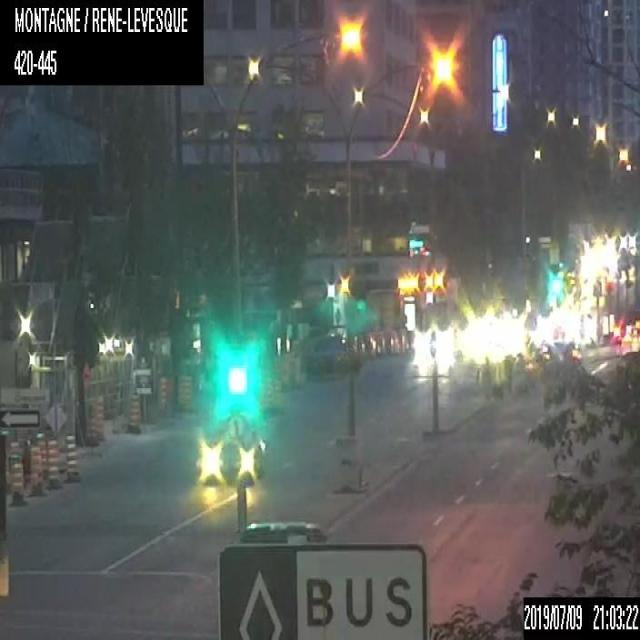construction: (47, 438, 61, 487), (10, 456, 24, 505), (64, 433, 78, 480), (30, 447, 43, 494), (126, 389, 139, 430), (178, 372, 190, 410), (95, 393, 104, 440), (88, 405, 98, 444)
vehicle: (197, 417, 266, 480), (228, 515, 326, 549)
